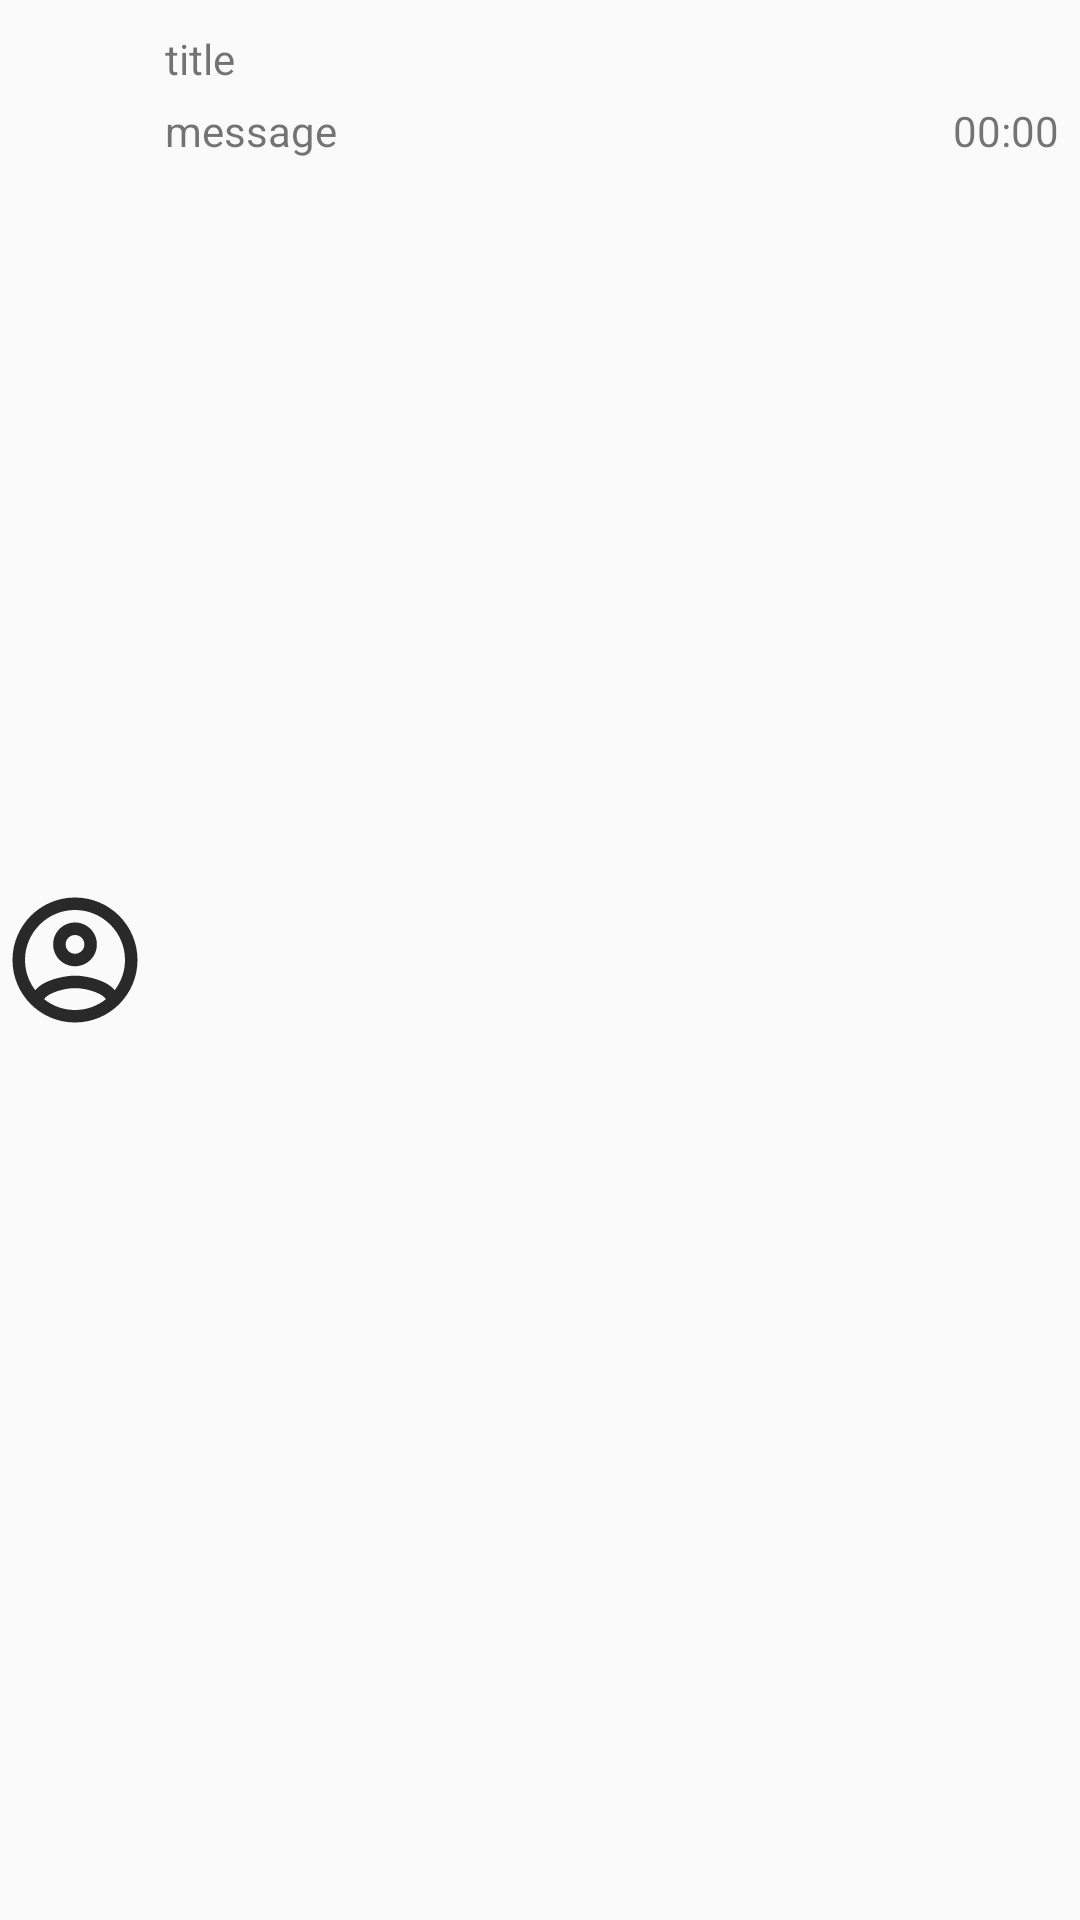

Point at icon controls on the screen. Image size 1080 × 1920, points as [x,y].
account circle: [75,960]
